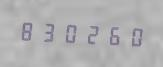eight: (17, 16, 37, 44)
six: (102, 21, 122, 49)
three: (38, 17, 58, 45)
two: (81, 19, 101, 48)
zero: (60, 18, 80, 46), (123, 22, 143, 50)
